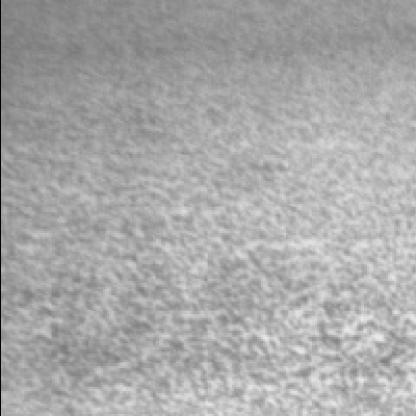pitted_surface: (6, 110, 416, 416)
